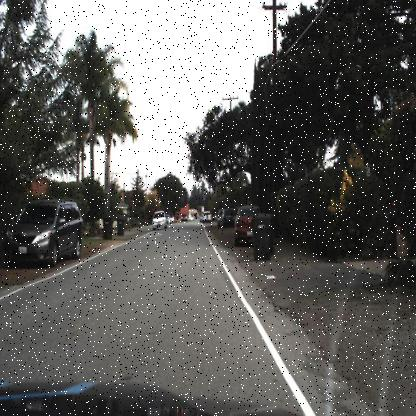car: (4, 194, 83, 266), (231, 204, 265, 245), (235, 206, 262, 248), (152, 208, 168, 229), (152, 211, 167, 232), (202, 211, 210, 226)
